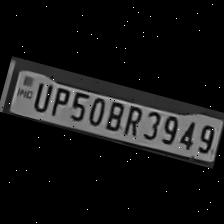0: (82, 90, 109, 127)
3: (138, 105, 164, 142)
4: (174, 114, 200, 150)
5: (64, 86, 90, 122)
9: (156, 110, 182, 146), (192, 120, 218, 154)
B: (101, 96, 128, 132)
P: (46, 82, 72, 119)
R: (120, 99, 146, 138)
U: (27, 76, 54, 114)
